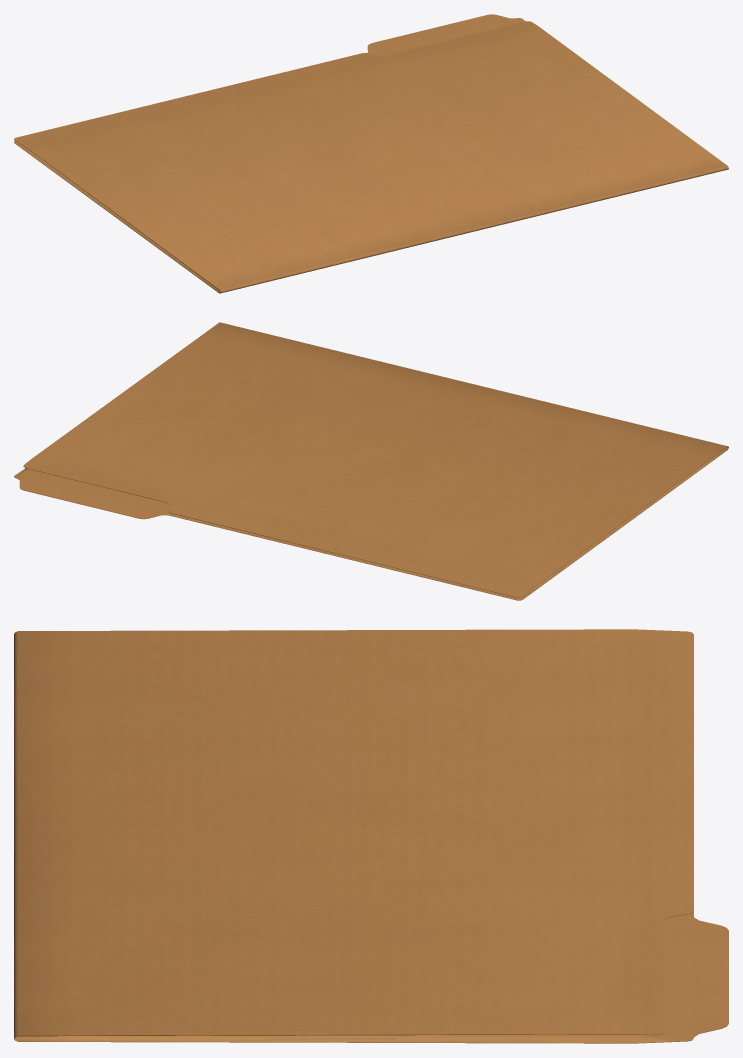
File: Mesh_Folder.fbx
3 views of the same model, one above another, from view 1: azimuth 30°, elevation 25°; view 2: azimuth 150°, elevation 25°; view 3: azimuth 270°, elevation 25° (orthographic). The views are drawn at different scales.
Parts seen in each view (by area): view 1: Mesh_Folder_LOD0; view 2: Mesh_Folder_LOD0; view 3: Mesh_Folder_LOD0.
Part boxes in pixels (x1,y1,x2,y2): Mesh_Folder_LOD0: [14, 14, 728, 293]; Mesh_Folder_LOD0: [14, 322, 728, 600]; Mesh_Folder_LOD0: [14, 629, 728, 1043].
Size of what is drawn, in the model's own units: 0.3015 by 0.00336 by 0.2251.
